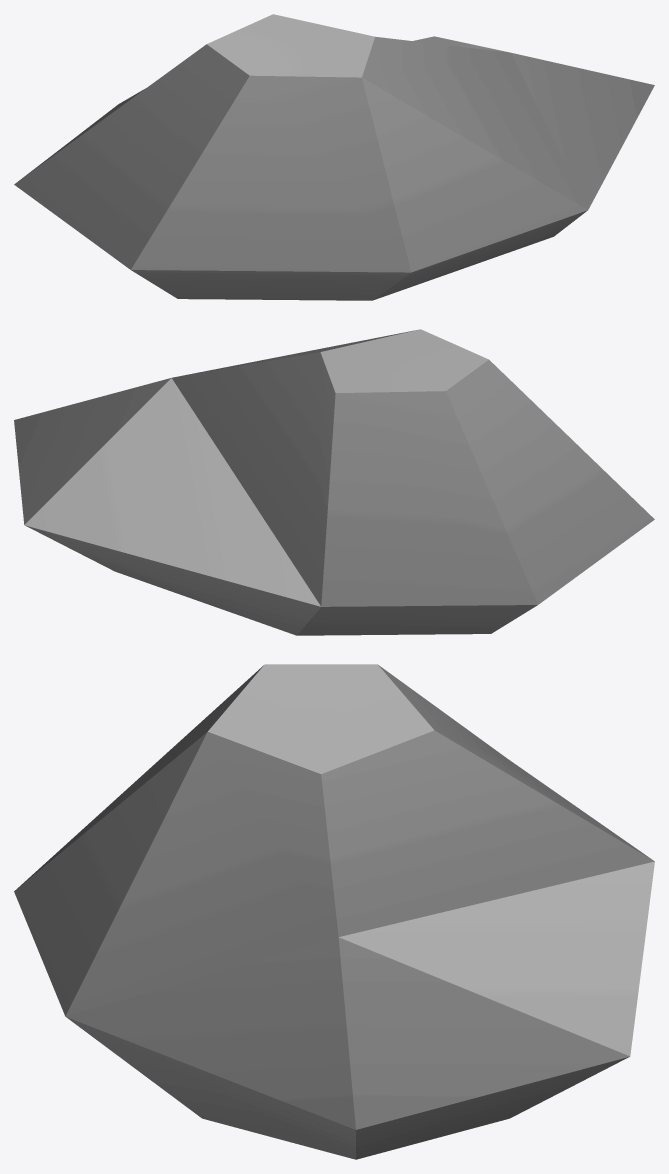
The model's file is GL-Rock-05-LOD3.fbx.
3 renders of one model, top to bottom at view 1: azimuth 30°, elevation 25°; view 2: azimuth 150°, elevation 25°; view 3: azimuth 270°, elevation 25°, orthographic. The views are drawn at different scales.
Parts seen in each view (by area): view 1: GL_Rock_05; view 2: GL_Rock_05; view 3: GL_Rock_05.
Part boxes in pixels (x1=…): GL_Rock_05: x1=14, y1=14, x2=654, y2=300; GL_Rock_05: x1=14, y1=329, x2=654, y2=635; GL_Rock_05: x1=14, y1=664, x2=654, y2=1159.
Size of the model in its own units: 3.19 by 1.11 by 2.33.
